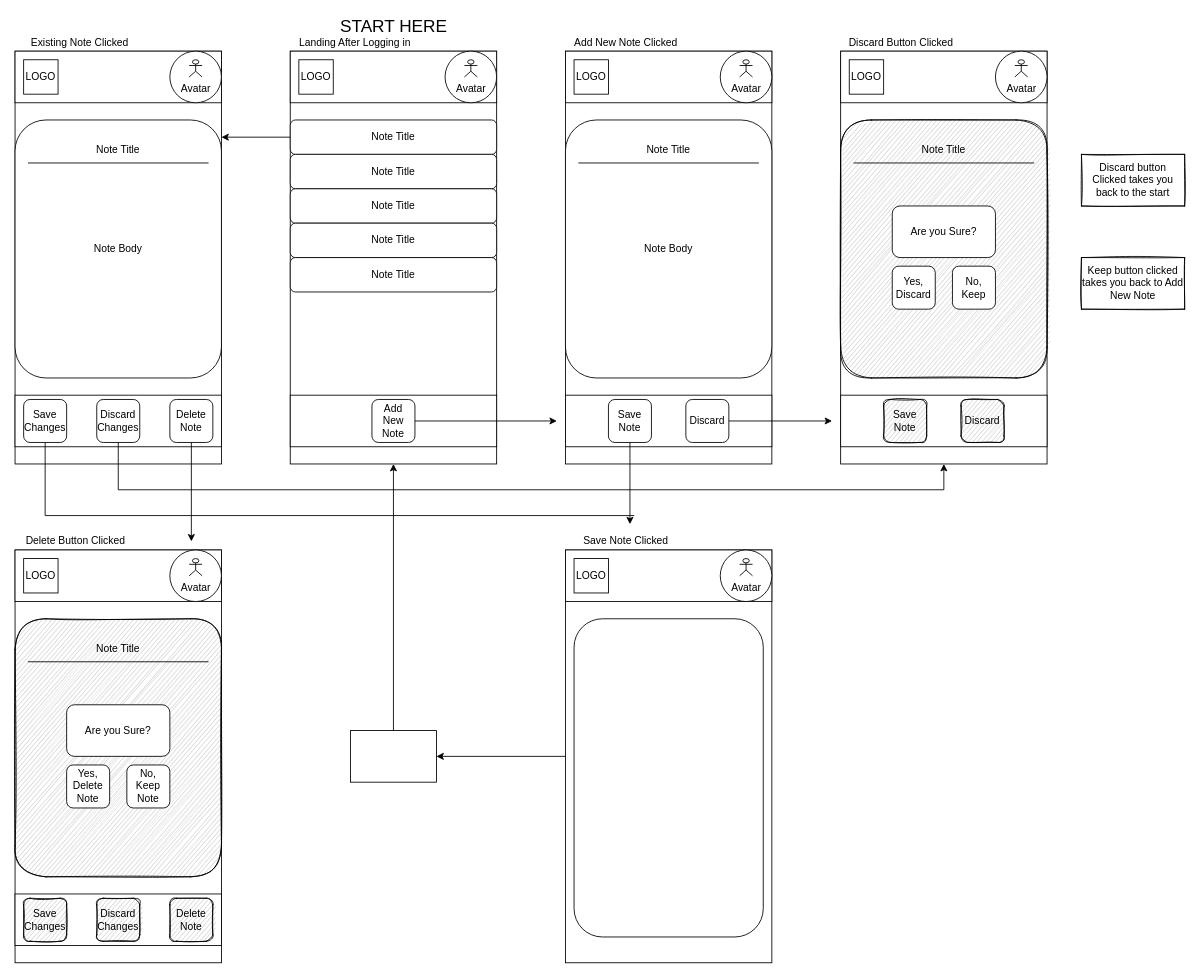
This 1200x978 diagram has some shape labels left out. Here are the shapes that lost their labels. From the top down, the box of each, then its label:
(350, 730, 436, 782): Short pause so user can see confirmation
(573, 618, 763, 937): Note Saved
